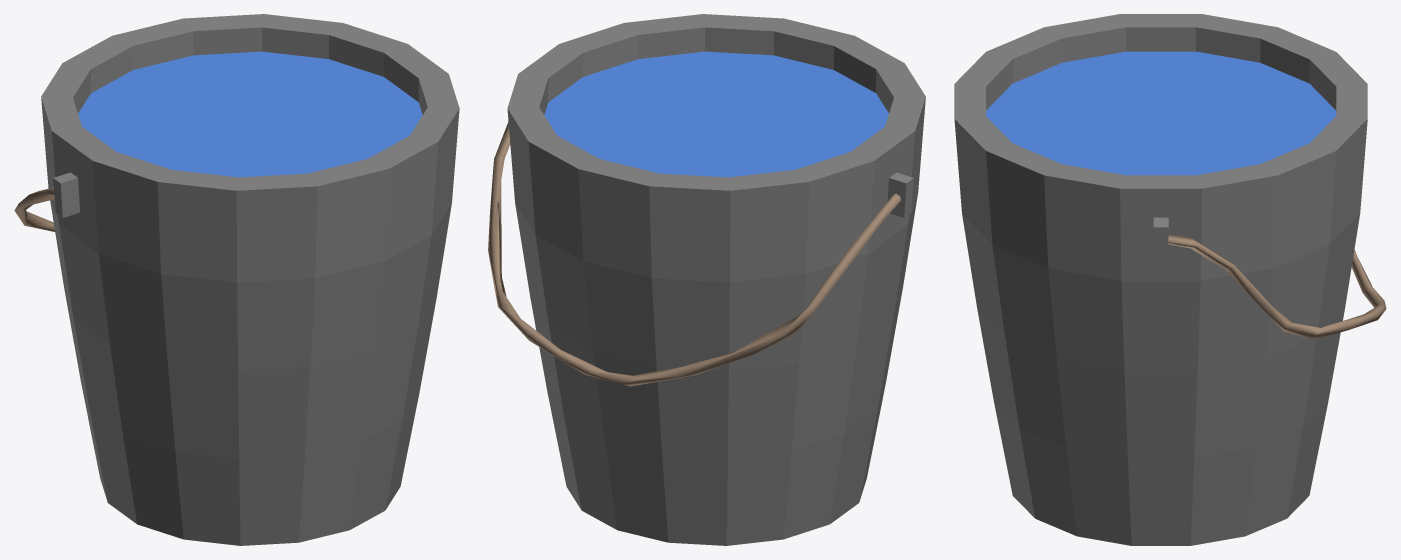
File: FullBucketModel.fbx
3 views of the same model, side by side, from view 1: azimuth 30°, elevation 25°; view 2: azimuth 150°, elevation 25°; view 3: azimuth 270°, elevation 25° (orthographic).
Visible parts, largest first — view 1: Bucket, Water, Handle; view 2: Bucket, Water, Handle; view 3: Bucket, Water, Handle.
Boxes of the visible parts, <box> form: Bucket: <box>41,14,459,545</box>; Water: <box>78,51,422,177</box>; Handle: <box>14,187,54,231</box>; Bucket: <box>507,14,925,545</box>; Water: <box>544,51,888,177</box>; Handle: <box>488,121,901,386</box>; Bucket: <box>954,14,1367,545</box>; Water: <box>986,51,1336,175</box>; Handle: <box>1168,234,1386,339</box>.
Bounding box in the file's own units: 213 × 200 × 205.
